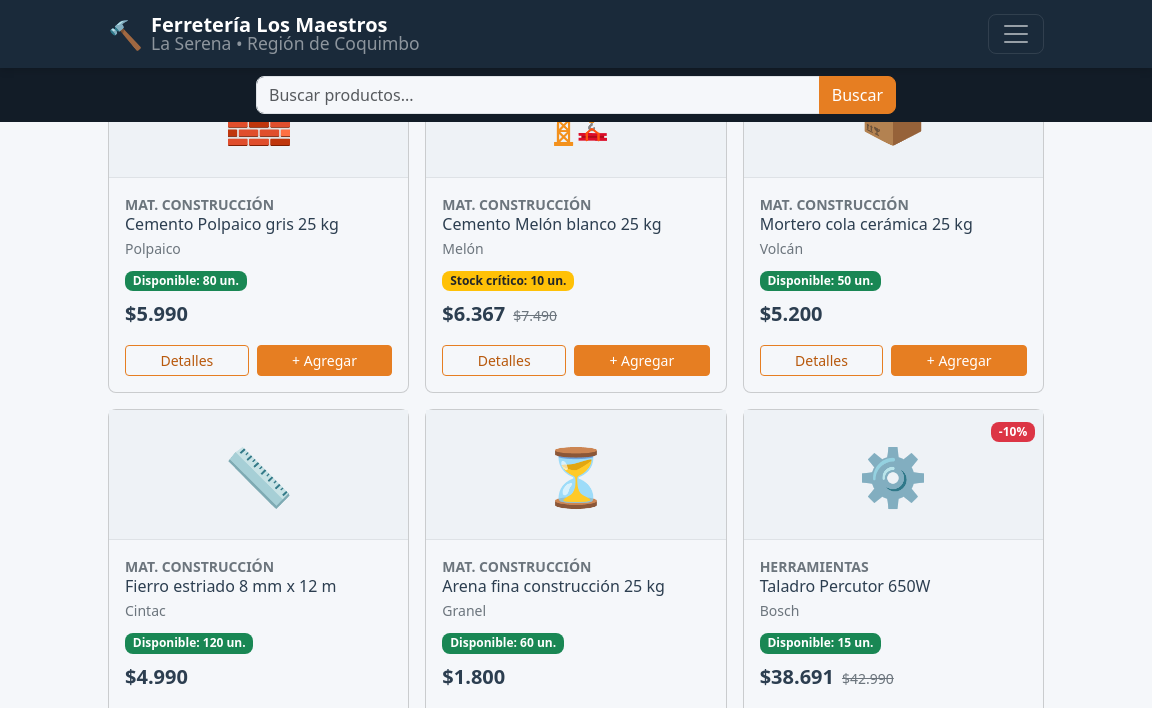
Test: Detalle de producto › desde el catálogo el botón Agregar avisa con un toast y suma al carrito
This screenshot has width=1152, height=708.
(page scrolled)
Click the button named "Agregar Cemento Polpaico" at (325, 361), box [257,345,392,376]
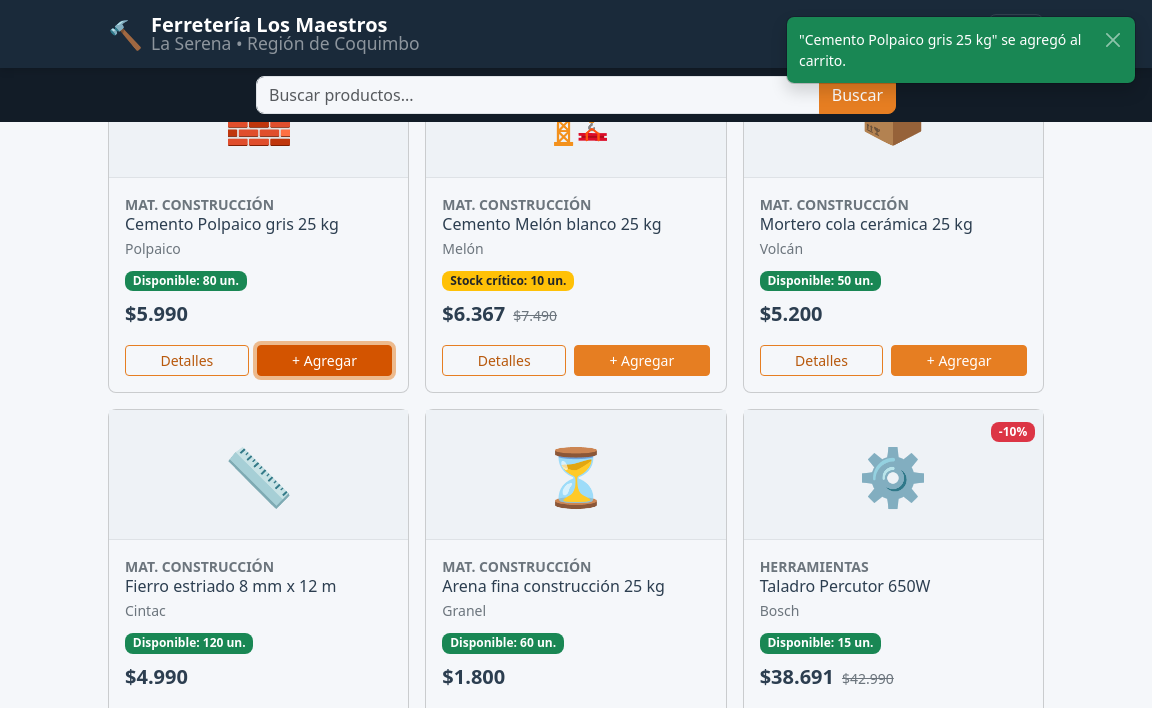
Expected: the text "\"Cemento Polpaico gris 25 kg\" se agregó al carrito." is shown, [799,29,1096,71]
